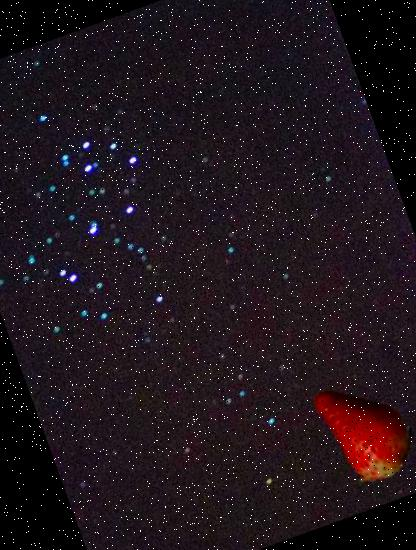Strawberry: (286, 363, 416, 503)
